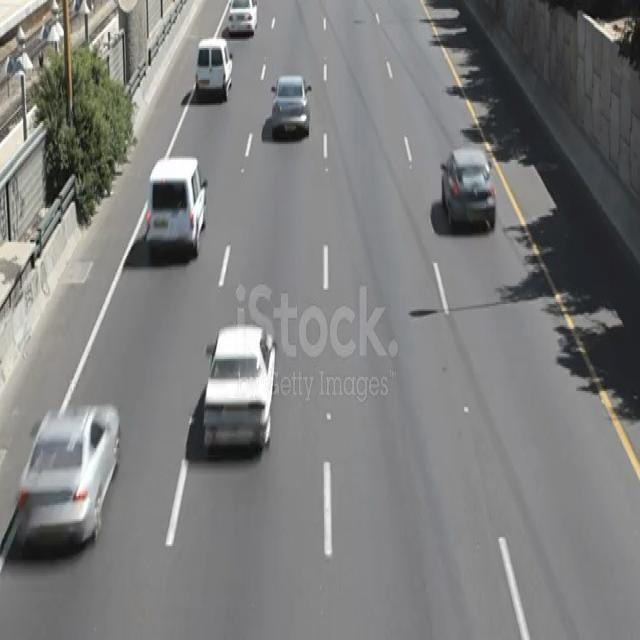Car: (16, 401, 125, 550), (202, 326, 279, 451), (436, 142, 501, 234), (267, 71, 313, 142), (227, 0, 260, 37)
Truck: (143, 151, 206, 262), (192, 34, 232, 104)
